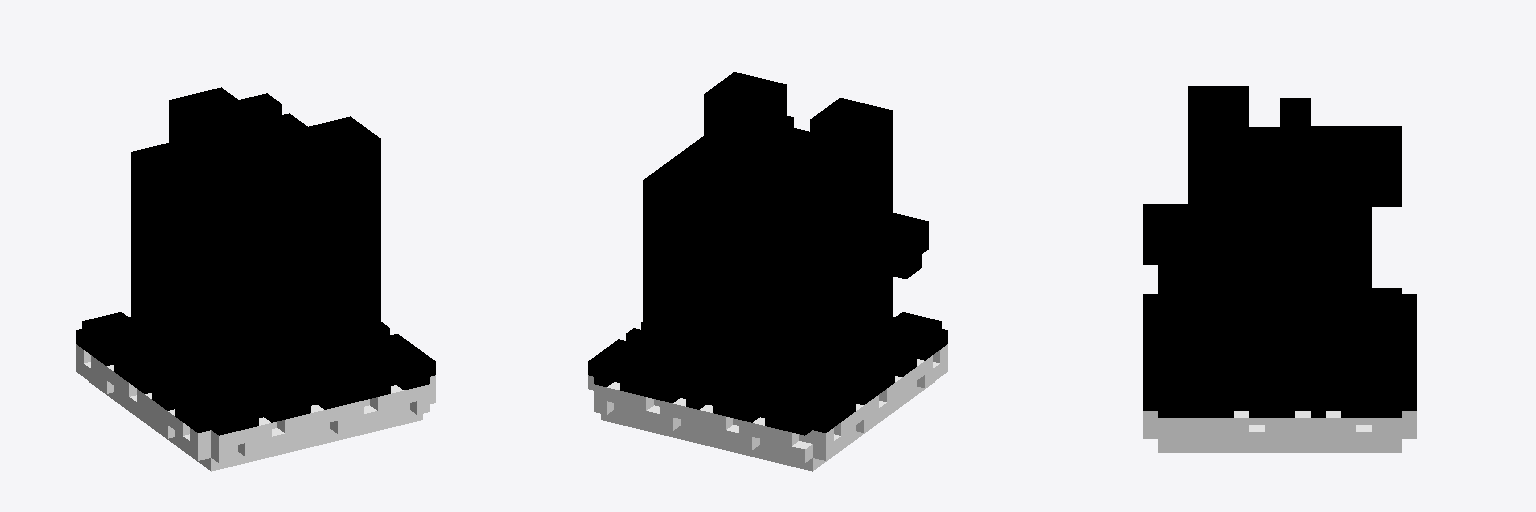
3 renders of one model, left to right at view 1: azimuth 30°, elevation 25°; view 2: azimuth 150°, elevation 25°; view 3: azimuth 270°, elevation 25°, orthographic.
Visible parts, largest first — view 1: object 1; view 2: object 1; view 3: object 1.
Boxes of the visible parts, box(x1,y1,x2,y2) form: object 1: box(76, 87, 435, 471); object 1: box(588, 72, 947, 471); object 1: box(1143, 86, 1416, 452).
Size of the model in its own units: 1.8 by 2.1 by 1.8.
Materials: 1 (1 with a texture image).